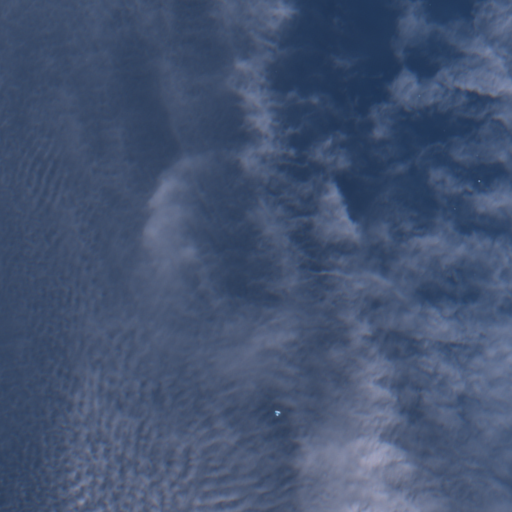Iceberg: (275, 410, 280, 415), (478, 180, 480, 181)
